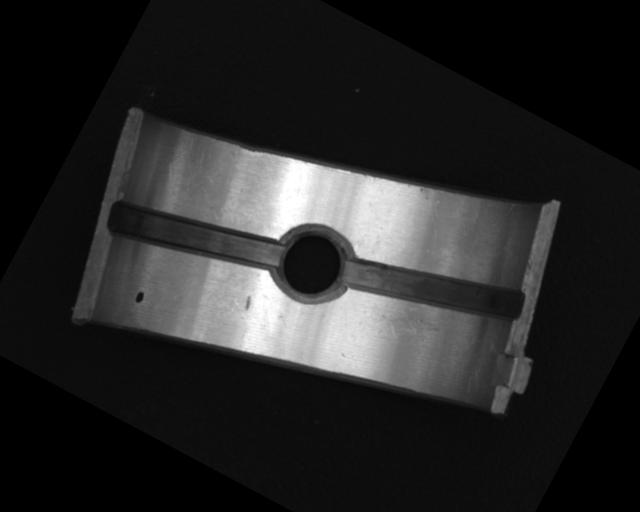blot: (131, 287, 147, 306)
bruise: (239, 294, 253, 312)
gap: (336, 215, 528, 364), (102, 166, 286, 308)
hole: (259, 213, 365, 319)
scratch: (364, 291, 455, 363)
